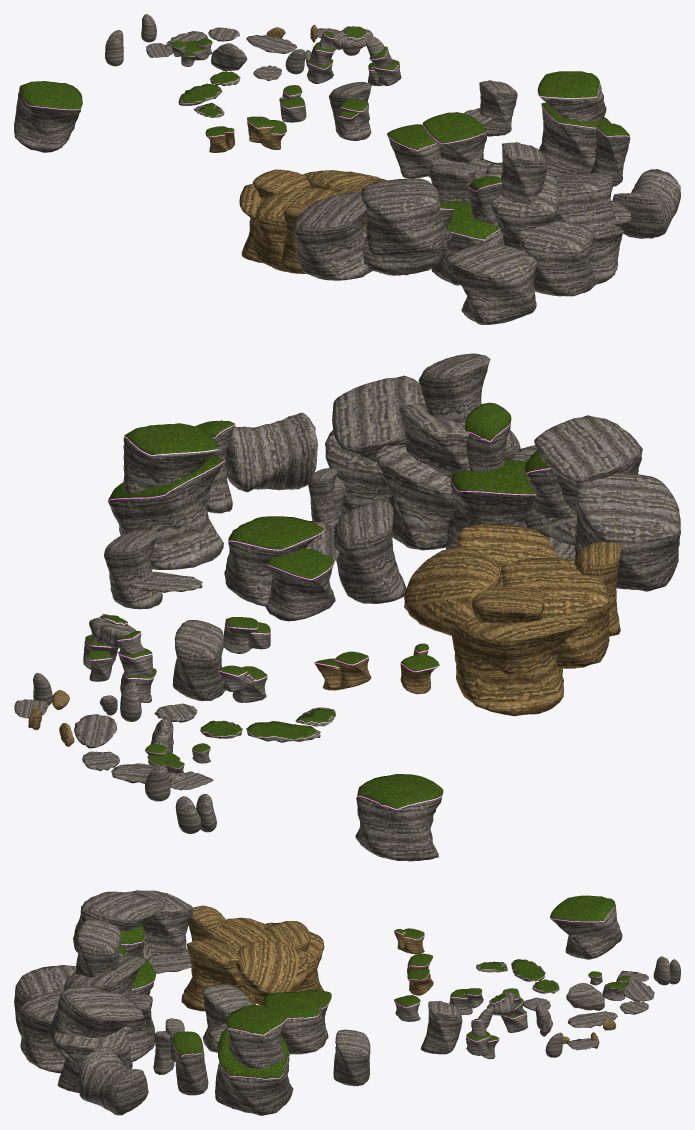
The model's file is Rocks.glb.
The picture shows the model from 3 angles, top to bottom: view 1: azimuth 30°, elevation 25°; view 2: azimuth 150°, elevation 25°; view 3: azimuth 270°, elevation 25°; orthographic projection. The views are drawn at different scales.
Parts seen in each view (by area): view 1: Rocks; view 2: Rocks; view 3: Rocks.
Part boxes in pixels (x1=…): Rocks: x1=14, y1=14, x2=680, y2=324; Rocks: x1=14, y1=353, x2=680, y2=861; Rocks: x1=14, y1=890, x2=680, y2=1115.
Size of what is drawn, in the model's own units: 66.55 by 22.68 by 97.7.
4 materials, 3 textured.
